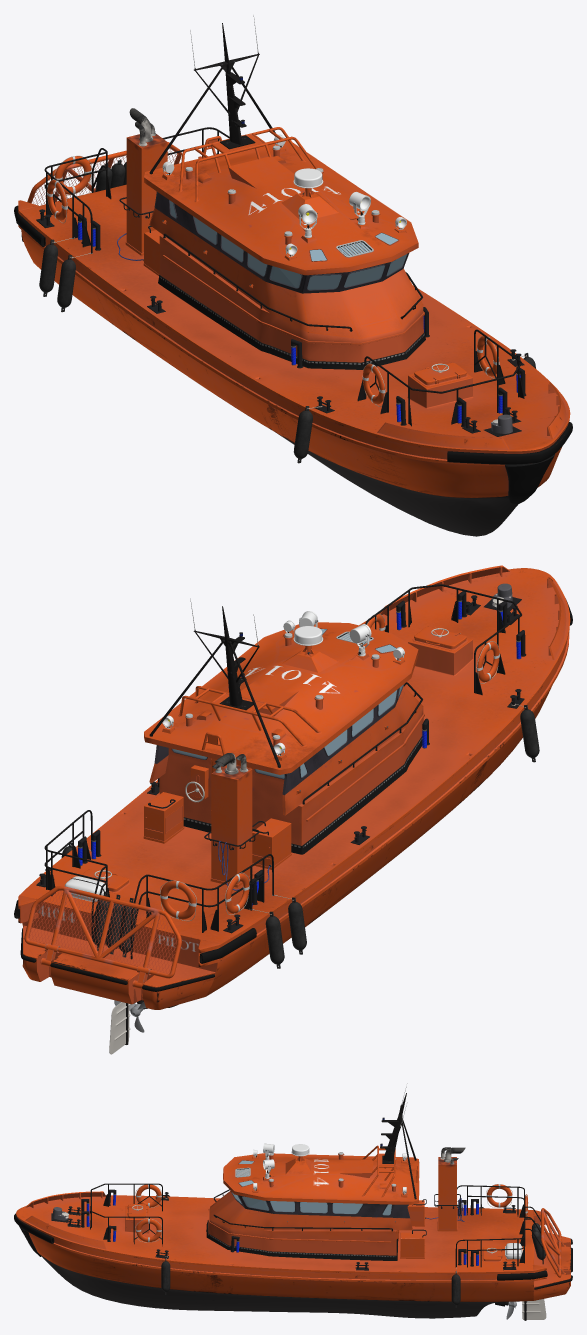
File: PilotShipBuild.fbx
3 views of the same model, one above another, from view 1: azimuth 30°, elevation 25°; view 2: azimuth 150°, elevation 25°; view 3: azimuth 270°, elevation 25° (orthographic). The views are drawn at different scales.
Visible parts, largest first — view 1: Pilot, Buoy.004, Buoy.001, Buoy.002, Gelbejimosiratas.001; view 2: Pilot, Gelbejimosiratas.001, Buoy.002, Buoy.004, Buoy.001, Gelbejimosiratas.002; view 3: Pilot, Gelbejimosiratas.004, Gelbejimosiratas.002, Gelbejimosiratas.003.
Boxes of the visible parts, <box> form: Pilot: <box>14,15,572,536</box>; Buoy.004: <box>293,406,312,463</box>; Buoy.001: <box>57,255,75,312</box>; Buoy.002: <box>39,239,57,296</box>; Gelbejimosiratas.001: <box>54,155,91,195</box>; Pilot: <box>14,565,572,1054</box>; Gelbejimosiratas.001: <box>160,880,196,921</box>; Buoy.002: <box>265,911,284,968</box>; Buoy.004: <box>520,705,539,762</box>; Buoy.001: <box>288,897,306,954</box>; Gelbejimosiratas.002: <box>225,872,249,915</box>; Pilot: <box>14,1083,572,1320</box>; Gelbejimosiratas.004: <box>135,1218,161,1242</box>; Gelbejimosiratas.002: <box>486,1184,512,1207</box>; Gelbejimosiratas.003: <box>135,1184,161,1207</box>.
Bounding box in the file's own units: 609 × 865 × 1925.
